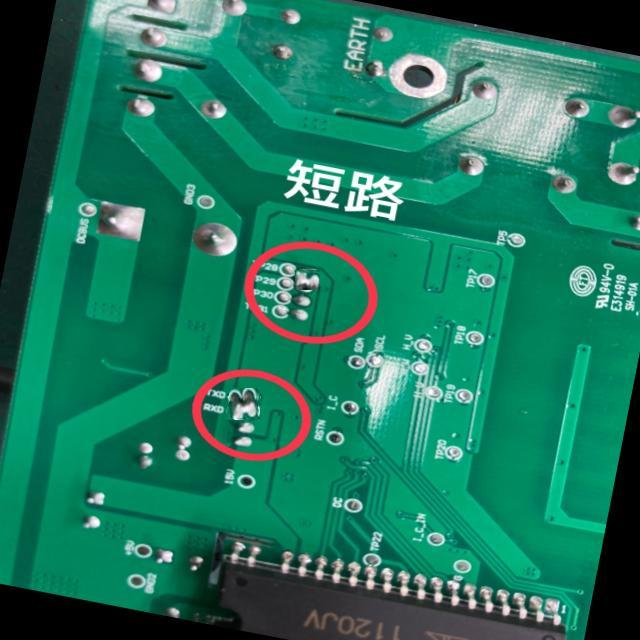Short_circuit: (229, 388, 257, 419), (295, 271, 320, 289)
